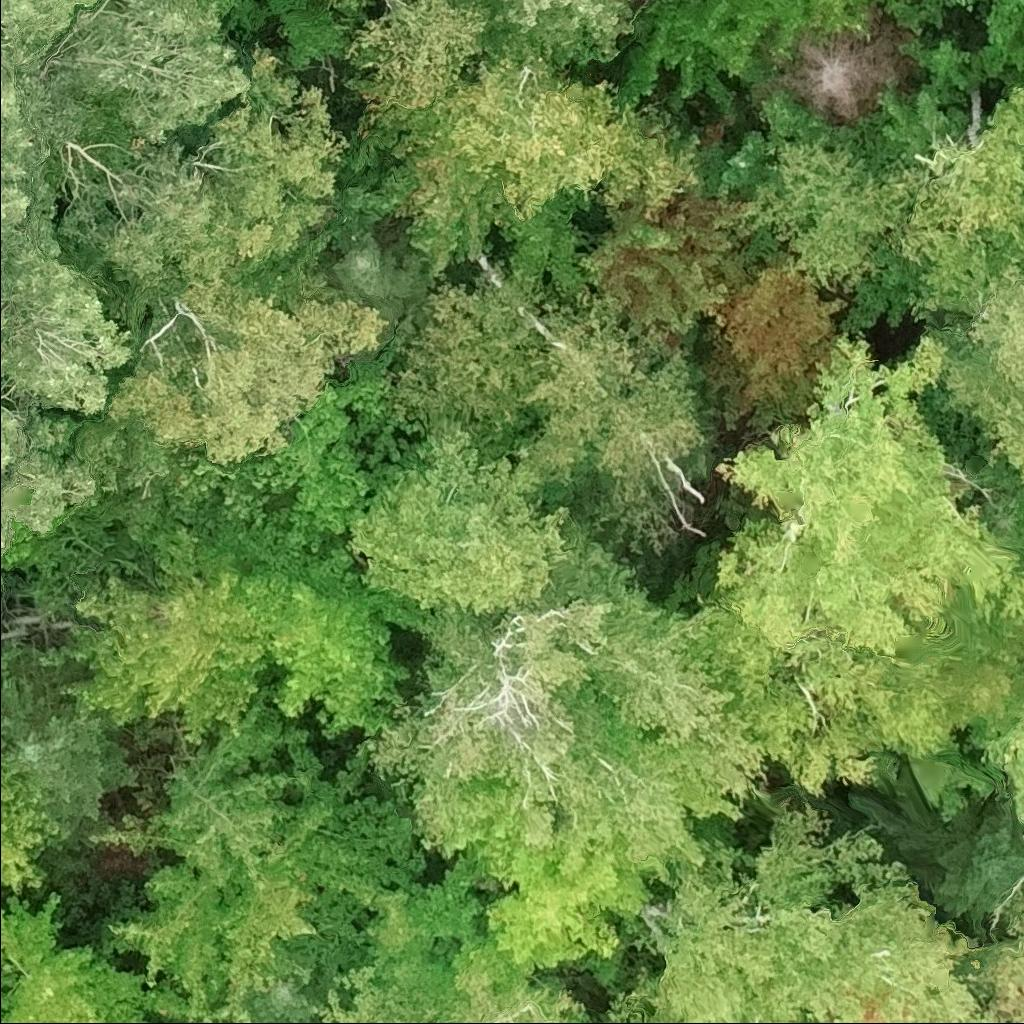crown: (355, 525, 771, 897), (695, 325, 1023, 793), (604, 794, 1016, 1023), (96, 747, 428, 1023), (0, 0, 258, 240), (110, 39, 349, 290), (100, 265, 387, 464), (54, 529, 296, 751), (429, 40, 706, 225), (520, 282, 706, 554), (0, 194, 137, 558), (439, 775, 666, 987), (92, 684, 314, 897), (345, 421, 581, 614), (881, 84, 1023, 314), (392, 258, 553, 451), (0, 641, 147, 837), (581, 190, 755, 344), (345, 109, 506, 275), (748, 136, 913, 294), (912, 247, 1023, 481), (701, 256, 848, 432), (267, 580, 411, 739), (619, 0, 821, 109), (343, 0, 496, 128), (781, 0, 918, 122), (0, 941, 190, 1023), (309, 231, 434, 324), (318, 942, 457, 1023), (362, 880, 500, 961), (487, 0, 639, 66), (441, 964, 595, 1023), (0, 781, 61, 896), (0, 888, 62, 976), (248, 968, 338, 1023), (808, 0, 939, 32), (321, 0, 374, 10), (0, 577, 3, 600), (231, 1022, 232, 1023)
